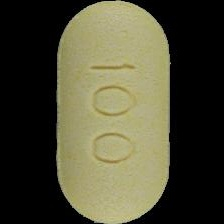51655-295: (0, 0, 224, 224)
